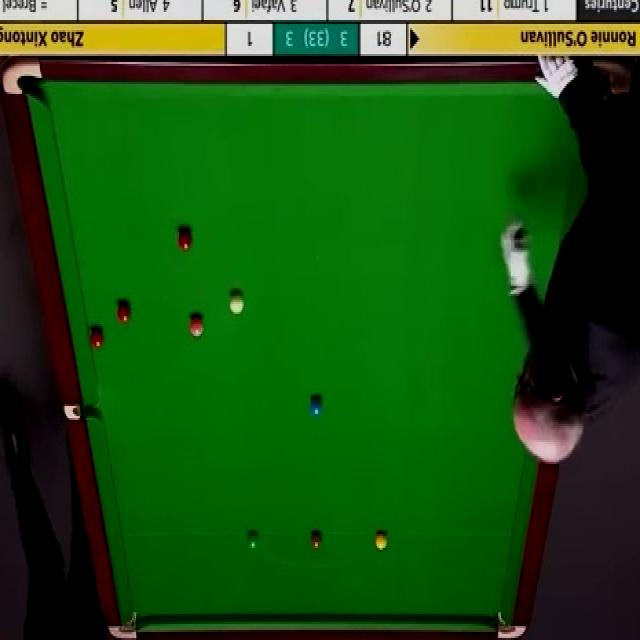pocket: (2, 57, 42, 96), (593, 61, 633, 96), (496, 610, 528, 640), (107, 608, 138, 638), (64, 399, 98, 418)
